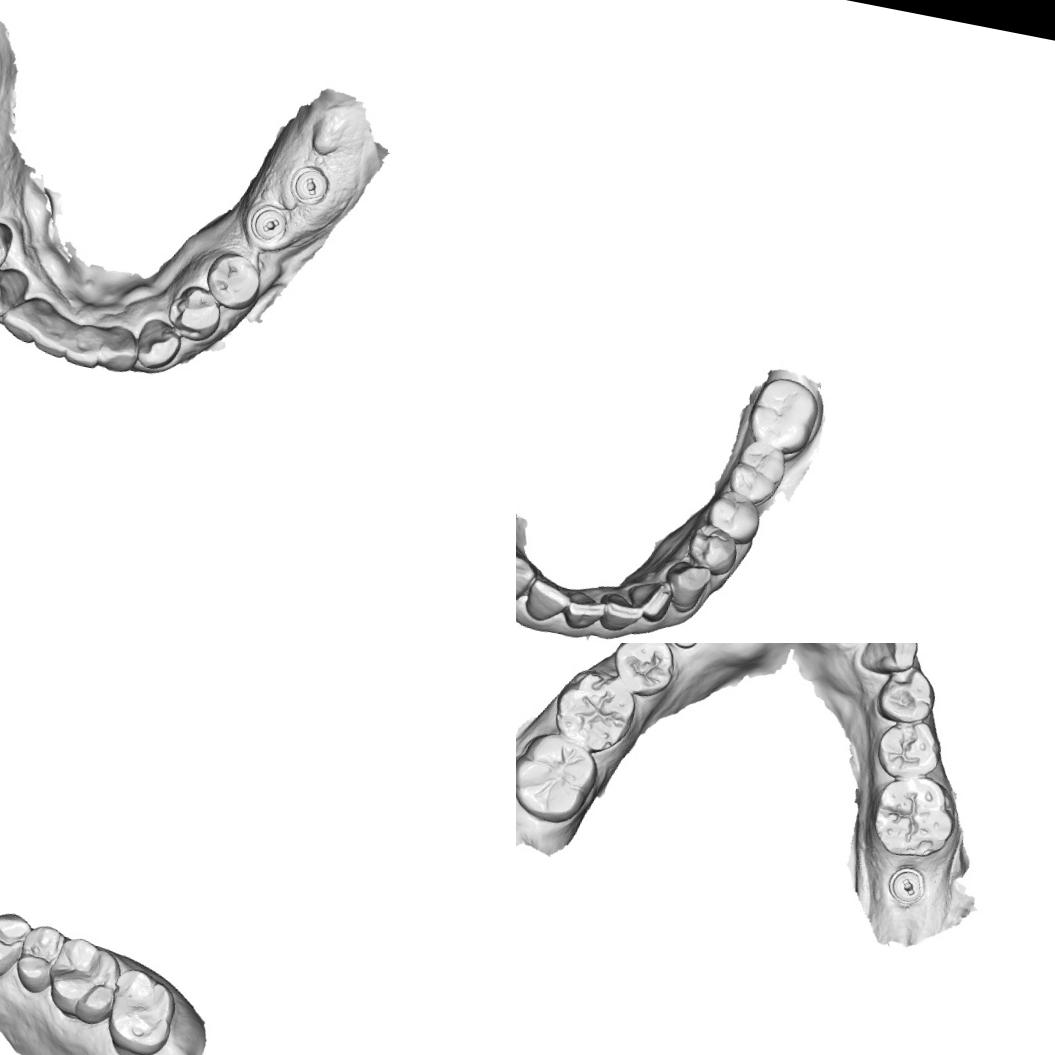canine: (657, 552, 716, 618), (128, 310, 186, 376), (856, 643, 925, 680), (0, 259, 33, 325), (516, 544, 542, 611)
implant_minus: (285, 158, 336, 208), (244, 198, 294, 248), (882, 858, 932, 907), (662, 643, 705, 652)
incisor: (0, 282, 53, 349), (94, 311, 145, 379), (31, 295, 79, 364), (518, 571, 574, 628), (620, 572, 678, 624), (555, 582, 612, 634), (596, 584, 648, 638), (60, 312, 108, 370)
molar: (542, 659, 644, 760), (516, 724, 605, 830), (866, 768, 962, 866), (38, 931, 128, 1030), (98, 962, 182, 1055), (742, 370, 823, 460), (720, 434, 793, 510)
premolar: (870, 713, 945, 785), (196, 244, 268, 316), (870, 662, 941, 730), (10, 920, 70, 998), (161, 279, 227, 347), (605, 643, 681, 700), (701, 484, 766, 549), (680, 516, 743, 577), (0, 902, 37, 985), (0, 211, 18, 280)
